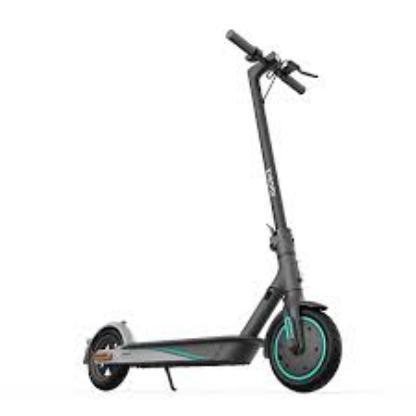bike: (82, 30, 343, 394)
